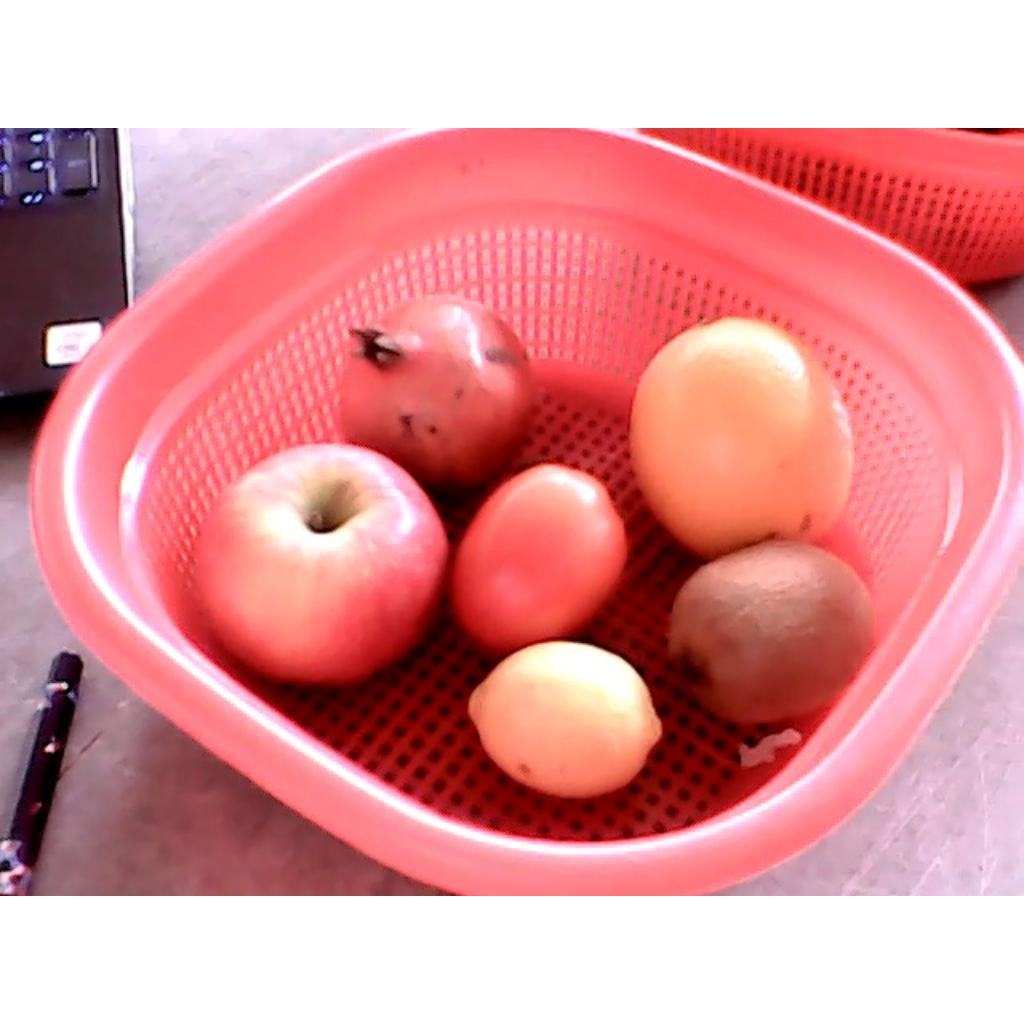apple: (190, 443, 447, 690)
kiwi: (670, 540, 875, 724)
lemon: (468, 640, 661, 797)
orange: (628, 316, 852, 557)
pomegranate: (336, 299, 536, 486)
tomato: (450, 465, 630, 652)
